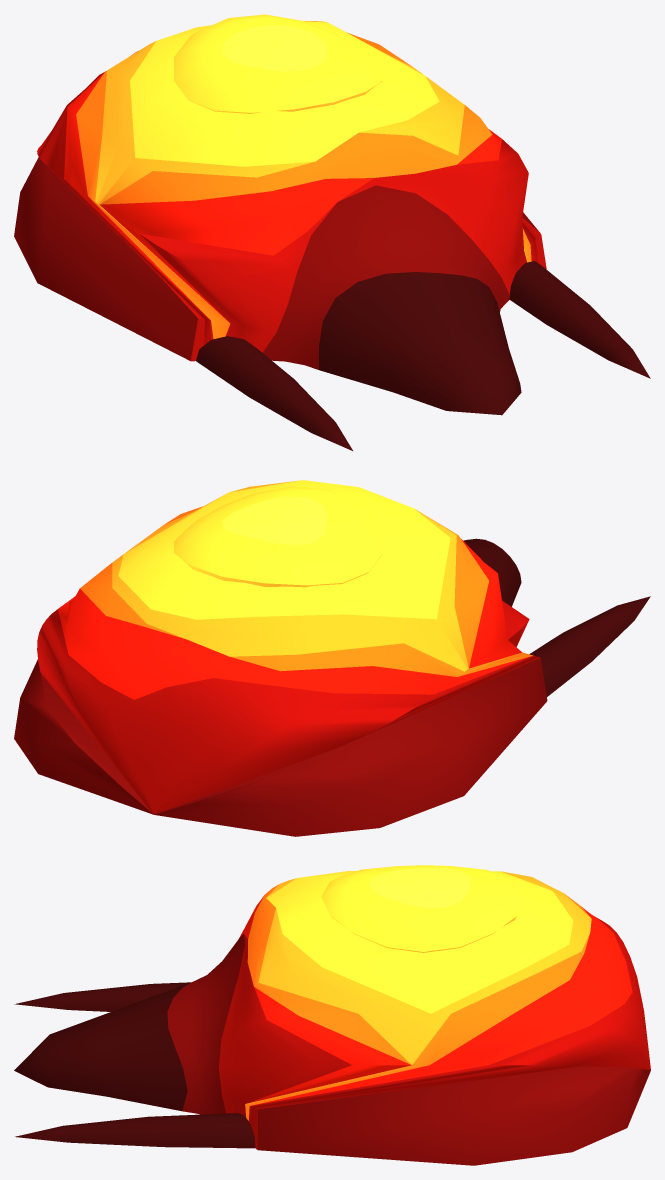
The model's file is shot_megapulse_38.glb.
3 renders of one model, top to bottom at view 1: azimuth 30°, elevation 25°; view 2: azimuth 150°, elevation 25°; view 3: azimuth 270°, elevation 25°, orthographic. The views are drawn at different scales.
Visible parts, largest first — view 1: shot_megapulse_38_fire, shot_megapulse_38_core, shot_megapulse_38_tongue0, shot_megapulse_38_tongue1; view 2: shot_megapulse_38_fire, shot_megapulse_38_core, shot_megapulse_38_tongue0; view 3: shot_megapulse_38_fire, shot_megapulse_38_core, shot_megapulse_38_tongue1, shot_megapulse_38_tongue0.
Boxes of the visible parts, box(x1,y1,x2,y2) form: shot_megapulse_38_fire: box(14, 21, 546, 415); shot_megapulse_38_core: box(173, 14, 382, 113); shot_megapulse_38_tongue0: box(196, 336, 352, 450); shot_megapulse_38_tongue1: box(509, 261, 650, 378); shot_megapulse_38_fire: box(14, 480, 547, 836); shot_megapulse_38_core: box(173, 486, 382, 587); shot_megapulse_38_tongue0: box(529, 596, 650, 696); shot_megapulse_38_fire: box(14, 871, 650, 1165); shot_megapulse_38_core: box(321, 865, 525, 952); shot_megapulse_38_tongue1: box(15, 1113, 255, 1148); shot_megapulse_38_tongue0: box(14, 982, 190, 1011).
Size of the model in its own units: 9.9 by 4.58 by 14.
